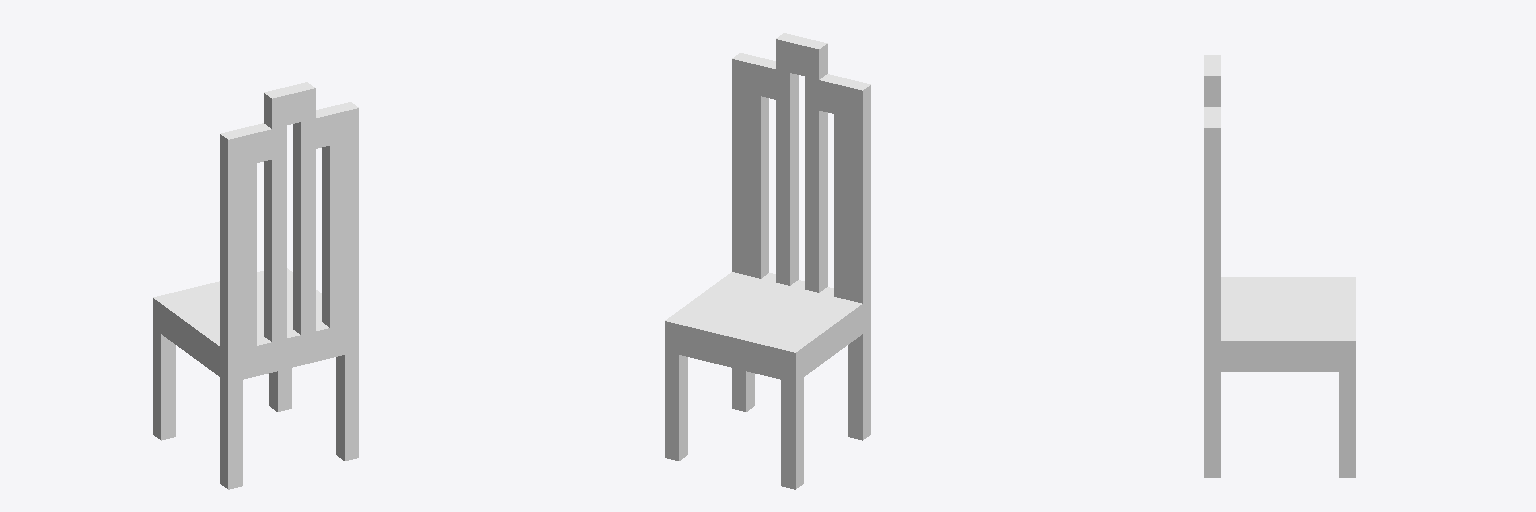
File: cadeiraplastico.obj
3 renders of one model, left to right at view 1: azimuth 30°, elevation 25°; view 2: azimuth 150°, elevation 25°; view 3: azimuth 270°, elevation 25°, orthographic.
Visible parts, largest first — view 1: object 1; view 2: object 1; view 3: object 1.
Boxes of the visible parts, x1,y1,x2,y2 form: object 1: [153, 82, 358, 489]; object 1: [665, 33, 870, 489]; object 1: [1204, 55, 1355, 477].
Size of the model in its own units: 0.9 by 2.5 by 0.9.